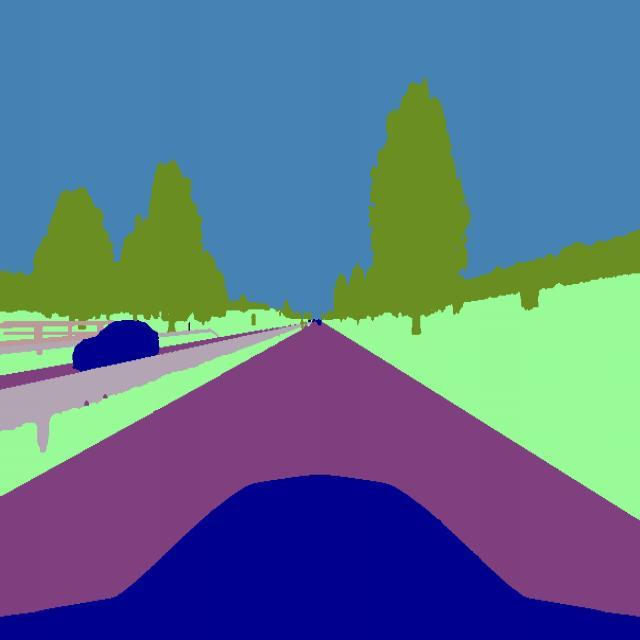safe: (72, 318, 162, 373)
